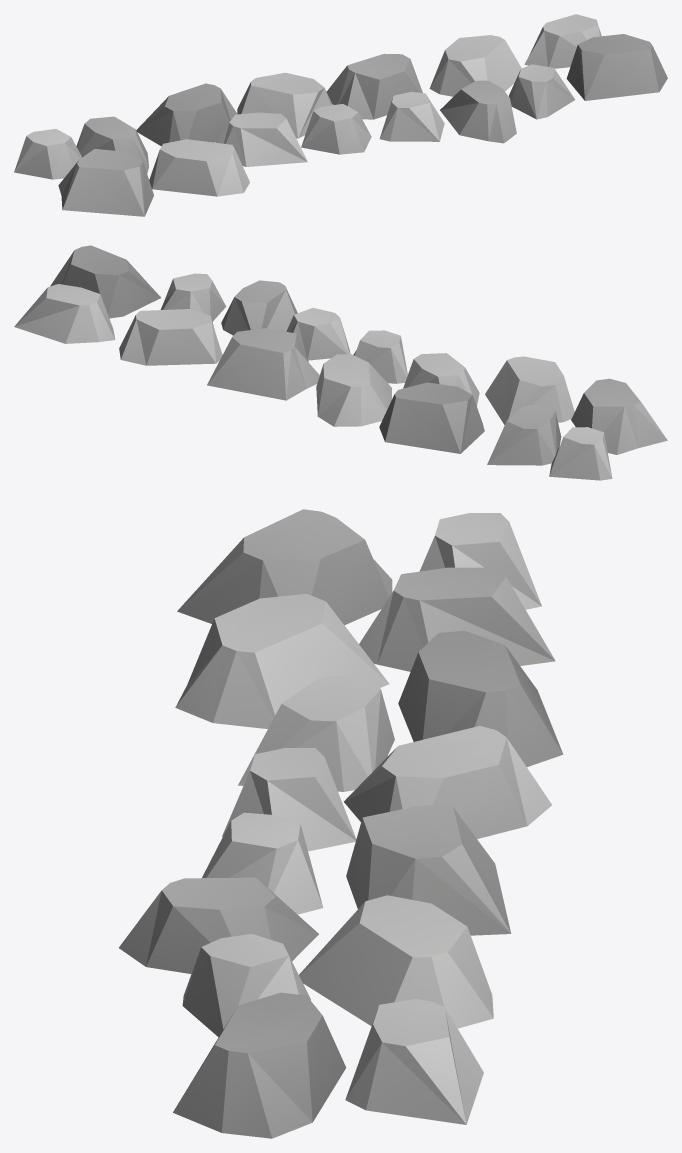
Rendered from stonepath_straight.glb.
The picture shows the model from 3 angles, top to bottom: view 1: azimuth 30°, elevation 25°; view 2: azimuth 150°, elevation 25°; view 3: azimuth 270°, elevation 25°; orthographic projection. The views are drawn at different scales.
Visible parts, largest first — view 1: StonePath_Straight_mesh1; view 2: StonePath_Straight_mesh1; view 3: StonePath_Straight_mesh1.
Part boxes in pixels (x1,y1,x2,y2): StonePath_Straight_mesh1: (14,14,667,216); StonePath_Straight_mesh1: (14,245,667,480); StonePath_Straight_mesh1: (119,509,563,1138).
Bounding box in the file's own units: 8.27 × 0.4673 × 2.68.
1 material, 1 textured.
